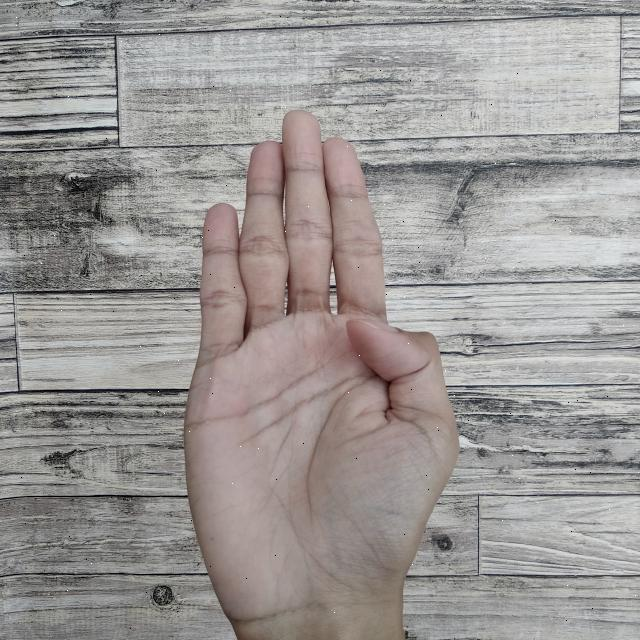B: (176, 83, 462, 640)
